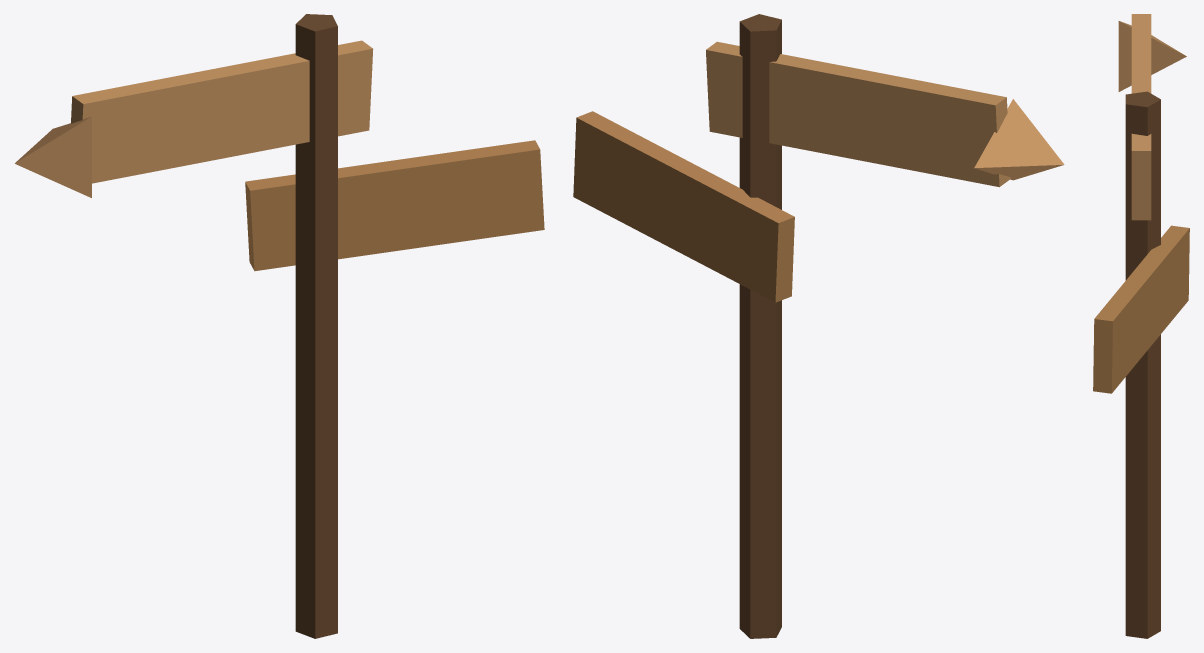
The model's file is signpost.fbx.
3 views of the same model, side by side, from view 1: azimuth 30°, elevation 25°; view 2: azimuth 150°, elevation 25°; view 3: azimuth 270°, elevation 25° (orthographic). The views are drawn at different scales.
Visible parts, largest first — view 1: signpost; view 2: signpost; view 3: signpost.
Boxes of the visible parts, <box> form: signpost: <box>15,14,544,638</box>; signpost: <box>573,14,1064,638</box>; signpost: <box>1093,14,1189,638</box>.
Size of the model in its own units: 3.15 by 3.6 by 0.594.
